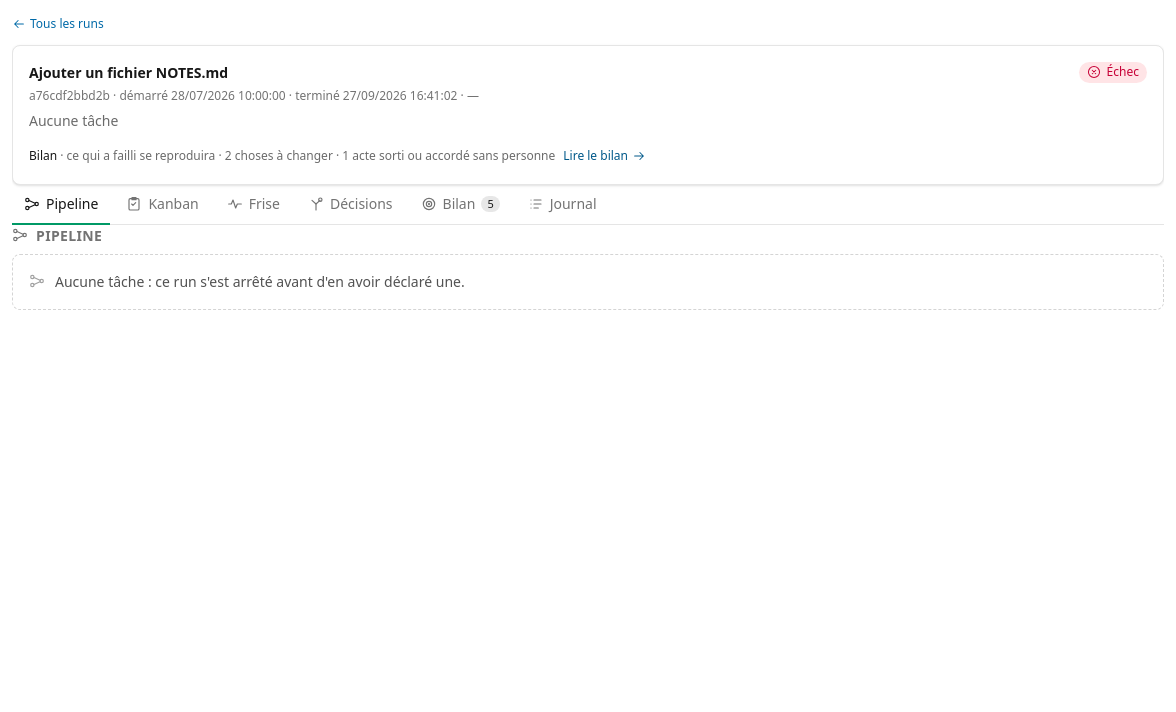
Test: les pièces d'un constat › se déplient en clair : la ligne du journal, jamais le texte écrit pour le modèle
Click the button "Bilan 5" at (460, 205), box [408,185,512,225]
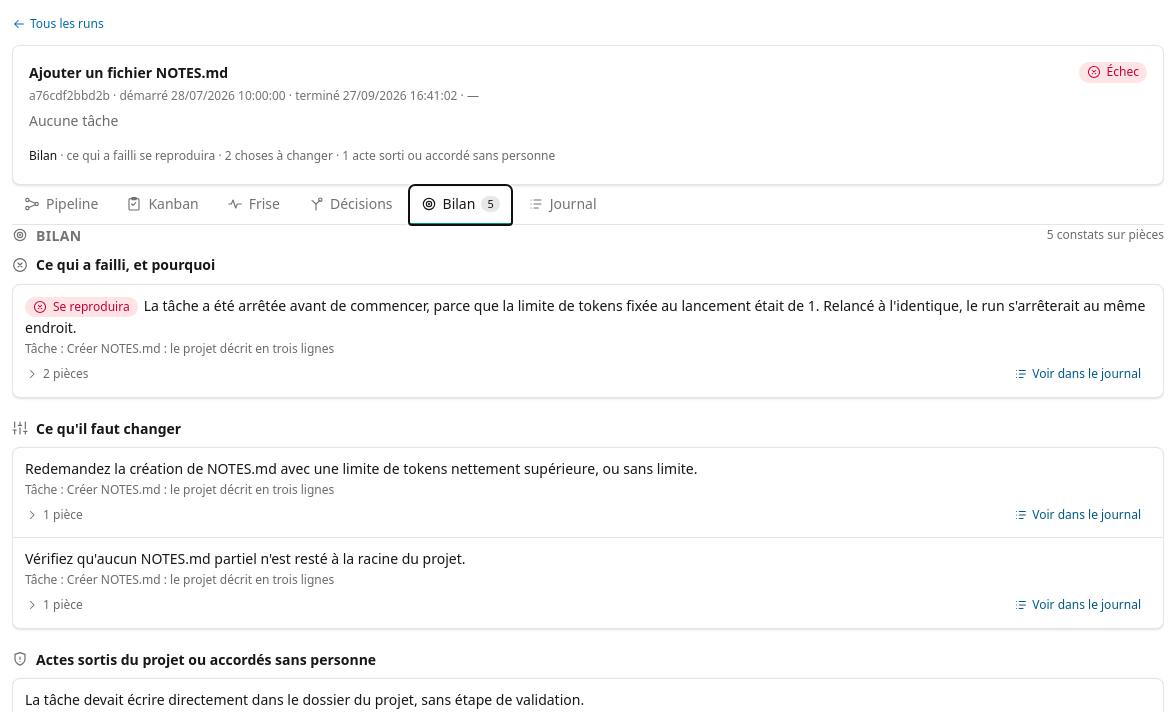
Click the button "2 pièces" at (57, 374), box [25,362,88,386]
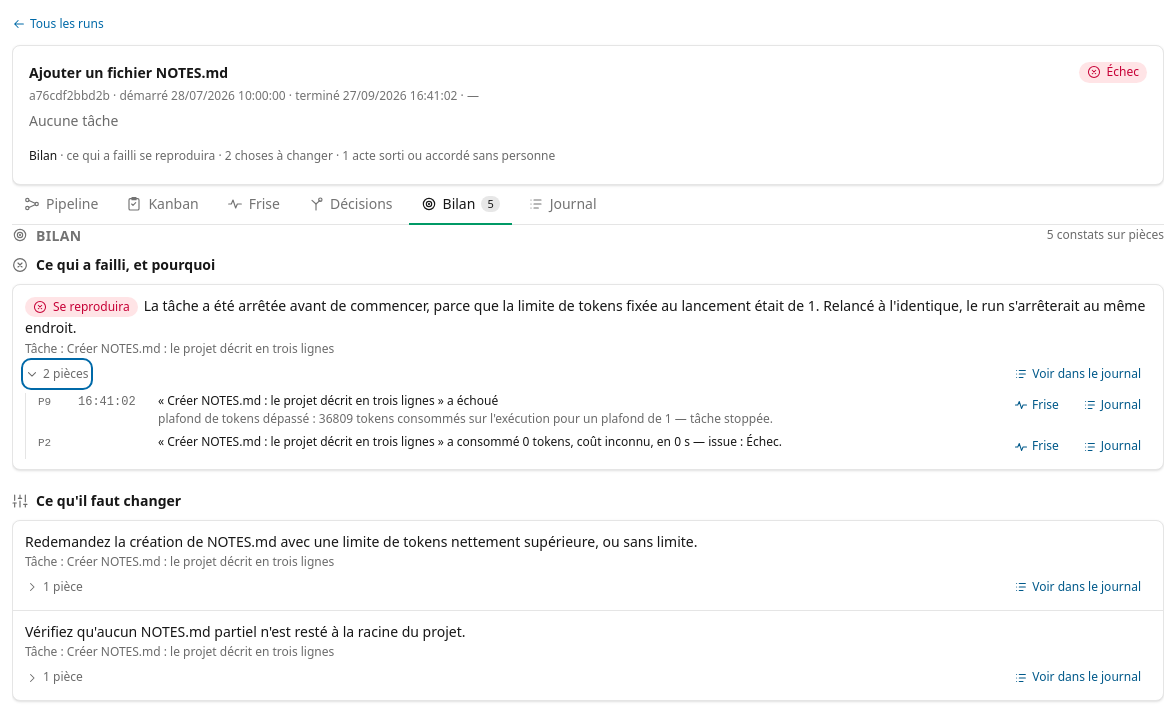
Check: the text "« Créer NOTES.md : le projet décrit en trois lignes » a échoué" is shown, box [158,392,498,409]
Check: the text "plafond de tokens dépassé : 36809" is shown, box [158,410,773,427]
Check: the text "a consommé 0 tokens, coût inconnu, en 0 s — issue : Échec." is shown, box [158,433,782,450]
